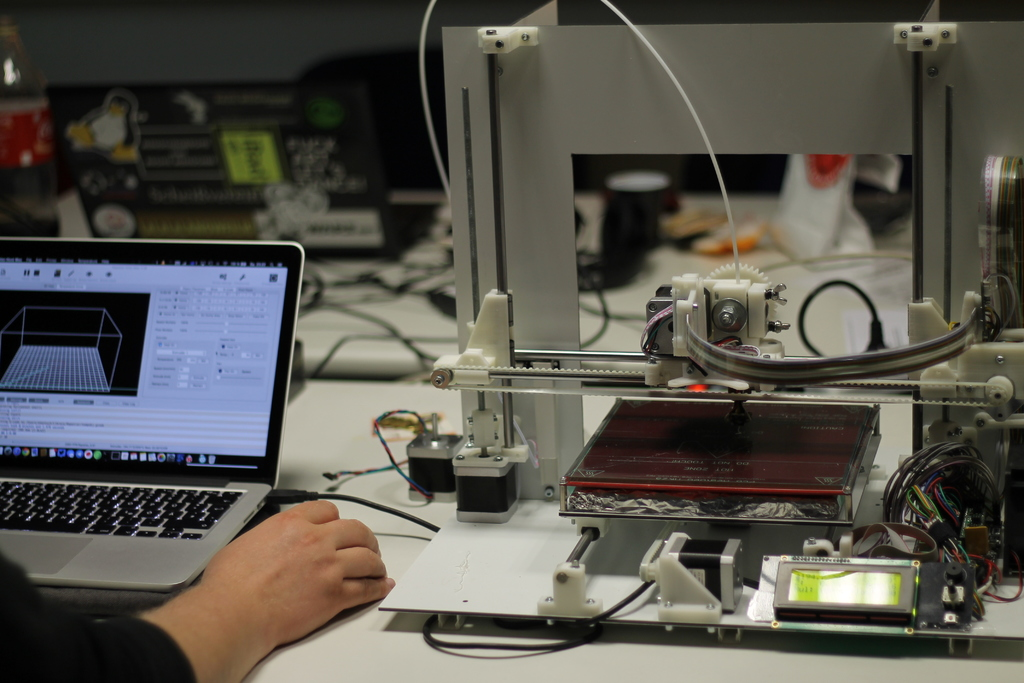Person: (0, 499, 395, 683)
